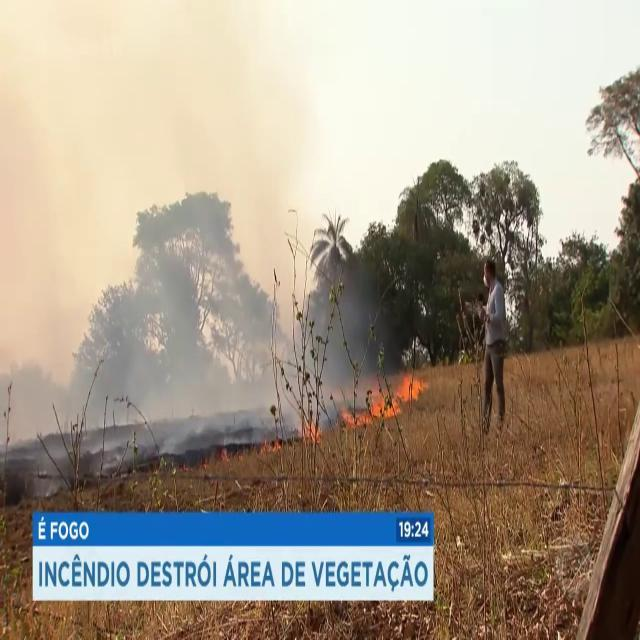Fire: (368, 358, 428, 421)
Smoke: (79, 46, 361, 447)
